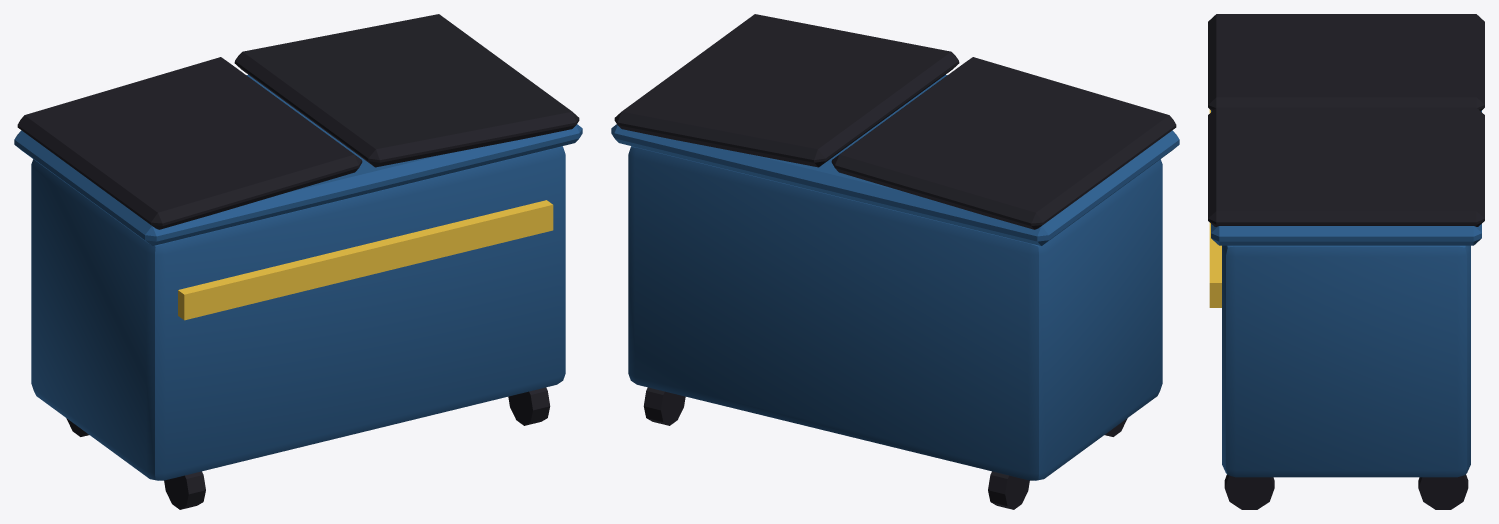
Rendered from dumpster.glb.
3 renders of one model, left to right at view 1: azimuth 30°, elevation 25°; view 2: azimuth 150°, elevation 25°; view 3: azimuth 270°, elevation 25°, orthographic. The views are drawn at different scales.
Visible parts, largest first — view 1: dumpster; view 2: dumpster; view 3: dumpster.
Boxes of the visible parts, <box> form: dumpster: <box>14,14,582,509</box>; dumpster: <box>611,14,1179,509</box>; dumpster: <box>1208,14,1484,509</box>.
Bounding box in the file's own units: 1.78 × 1.27 × 1.
Materials: 1 (1 with a texture image).
